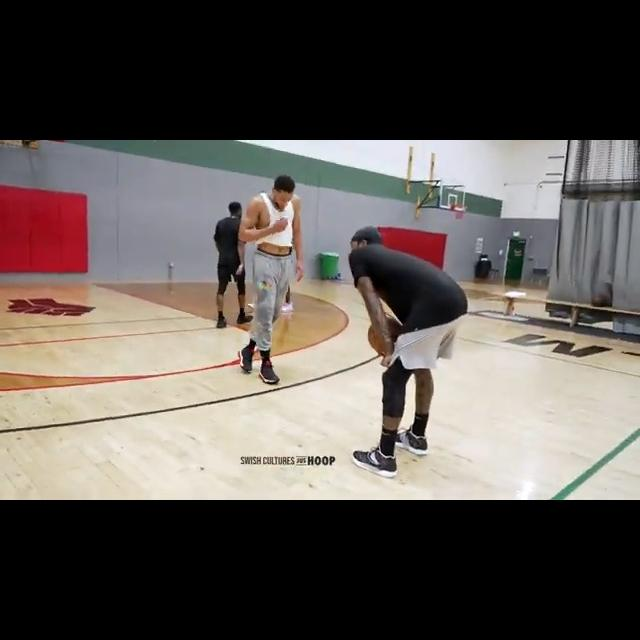basketball: (366, 322, 399, 355)
person: (346, 226, 474, 479), (237, 177, 306, 388), (211, 203, 255, 327)
